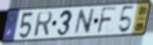3: (56, 8, 75, 38)
5: (116, 5, 136, 34), (18, 11, 35, 40)
F: (95, 6, 119, 36)
N: (73, 8, 97, 36)
R: (33, 10, 54, 38)
